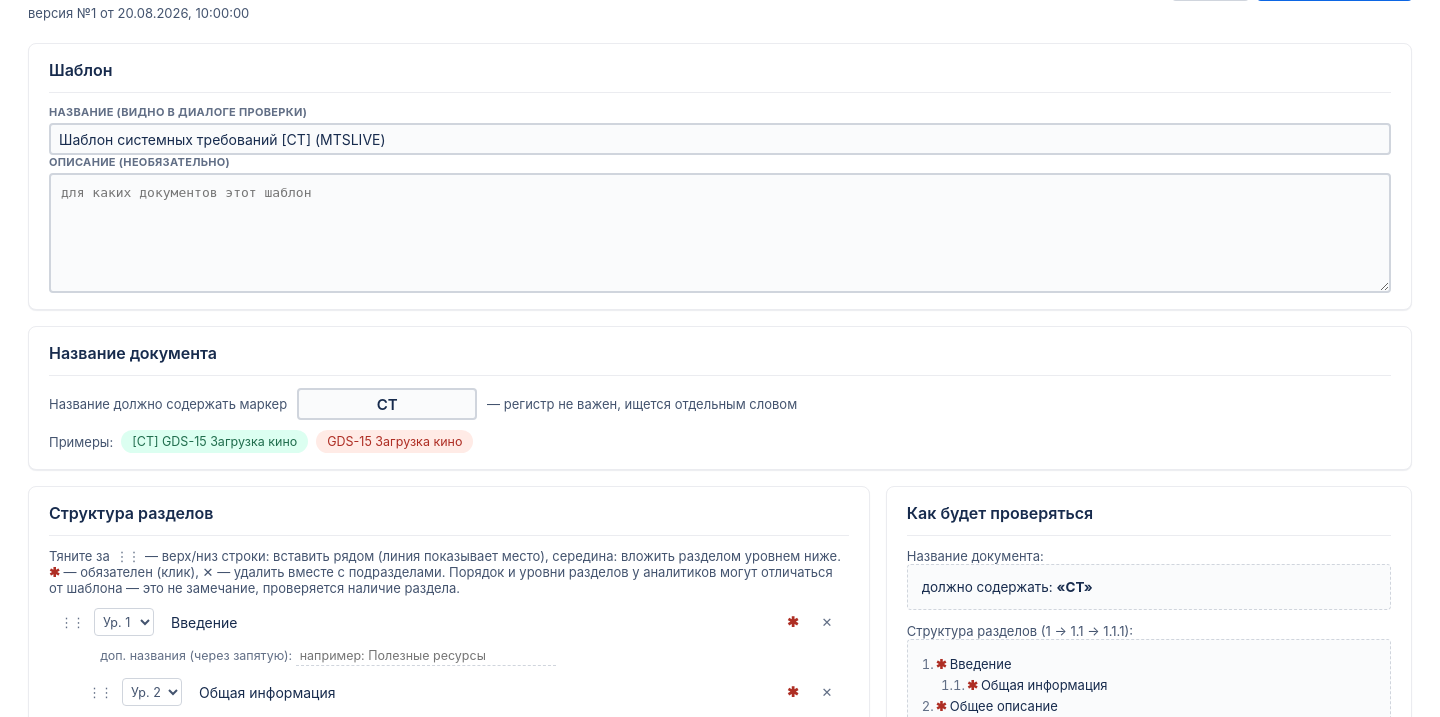
Test case: TemplatePage: редактирование › сброс перечитывает шаблон с сервера
Replace the text in the 2nd field showing "Введение" with "Изменённое" at (467, 622), box [162, 607, 772, 637]
(page scrolled)
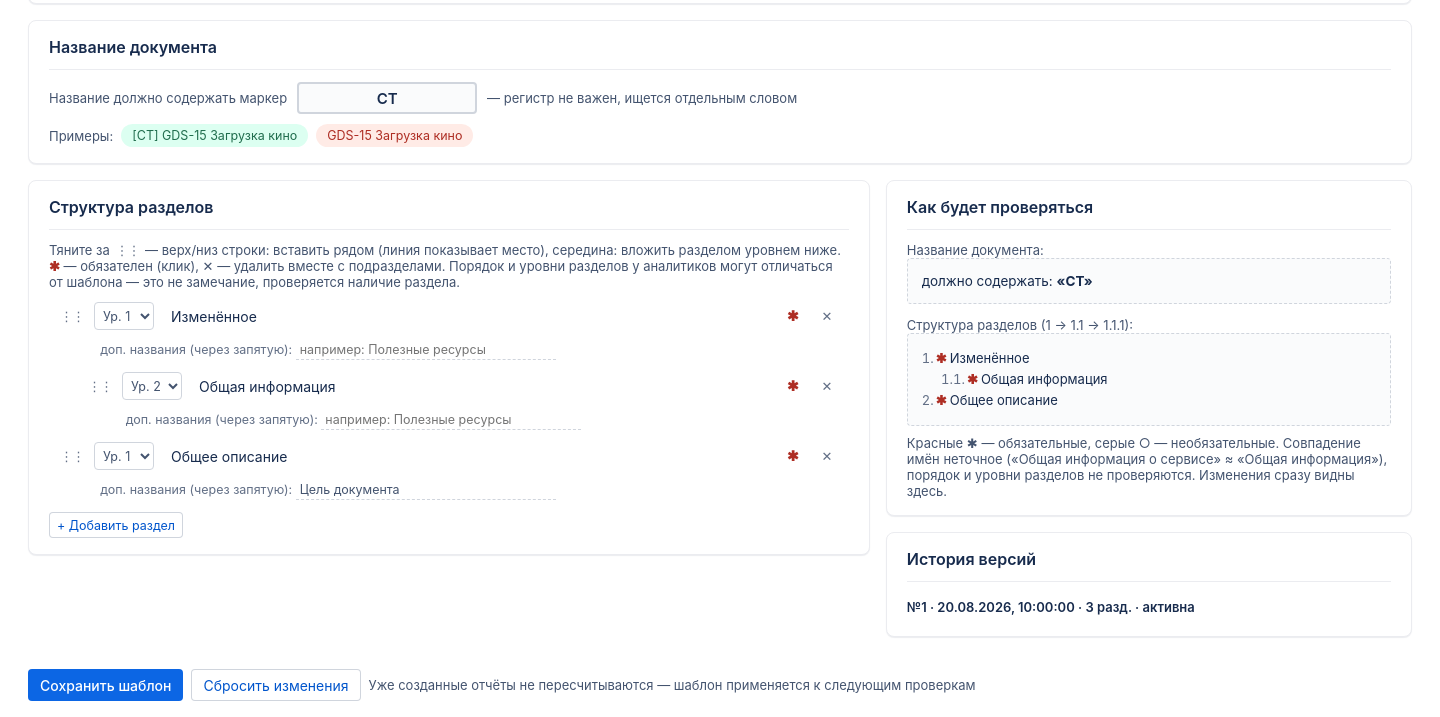
Click the button "Сбросить изменения".
click(276, 685)  # box [192, 669, 361, 701]
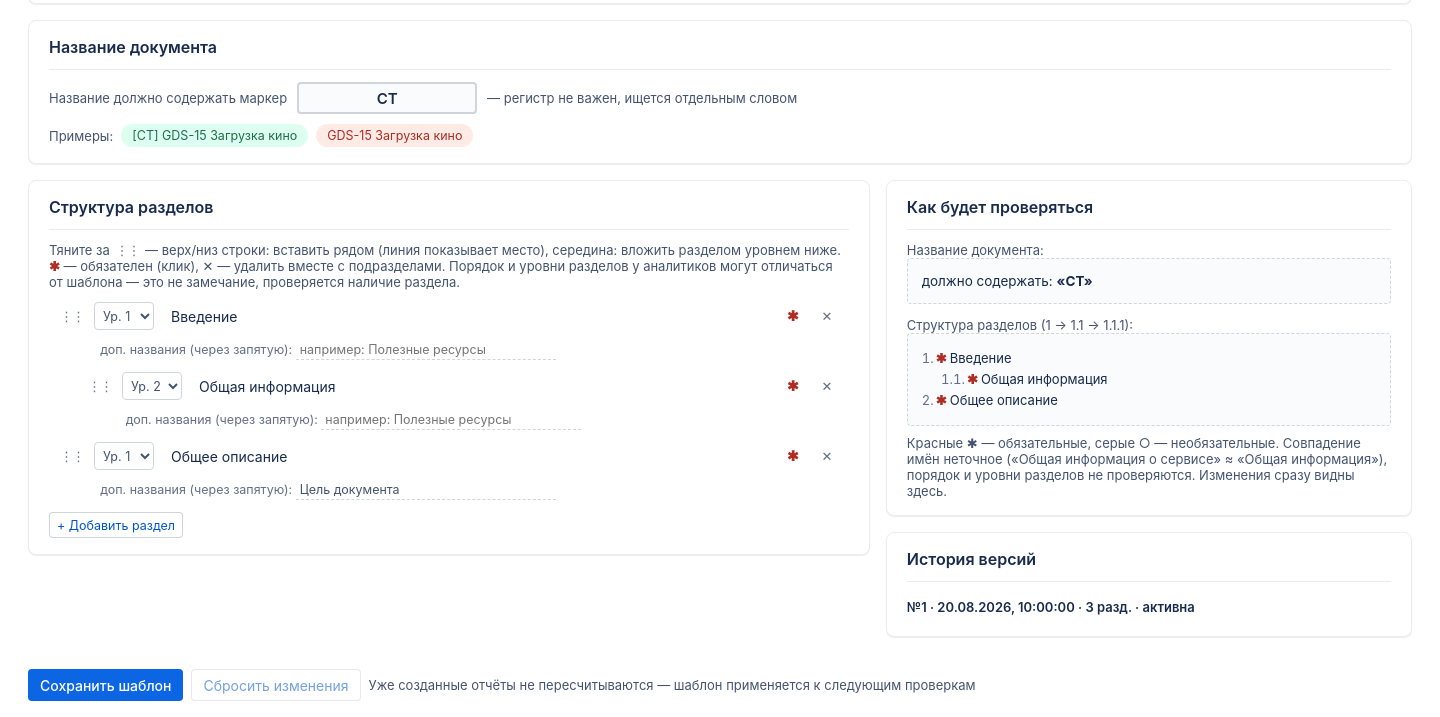
Expected: the 2nd field showing "Введение" is shown, [162, 301, 772, 331]
